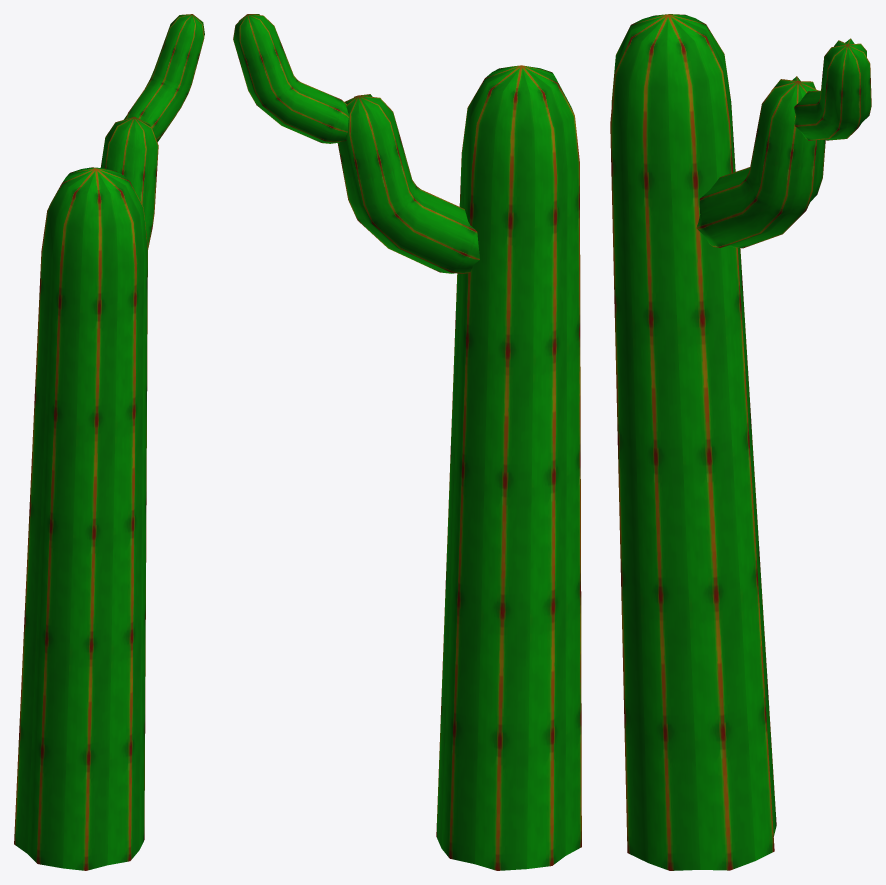
Rendered from cacc.fbx.
The picture shows the model from 3 angles, left to right: view 1: azimuth 30°, elevation 25°; view 2: azimuth 150°, elevation 25°; view 3: azimuth 270°, elevation 25°; orthographic projection. The views are drawn at different scales.
Visible parts, largest first — view 1: mesh-5.017; view 2: mesh-5.017; view 3: mesh-5.017.
Boxes of the visible parts, x1,y1,x2,y2 form: mesh-5.017: (14, 14, 204, 870); mesh-5.017: (233, 14, 581, 870); mesh-5.017: (610, 14, 871, 870).
Bounding box in the file's own units: 176 × 527 × 139.
Materials: 1 (1 with a texture image).
